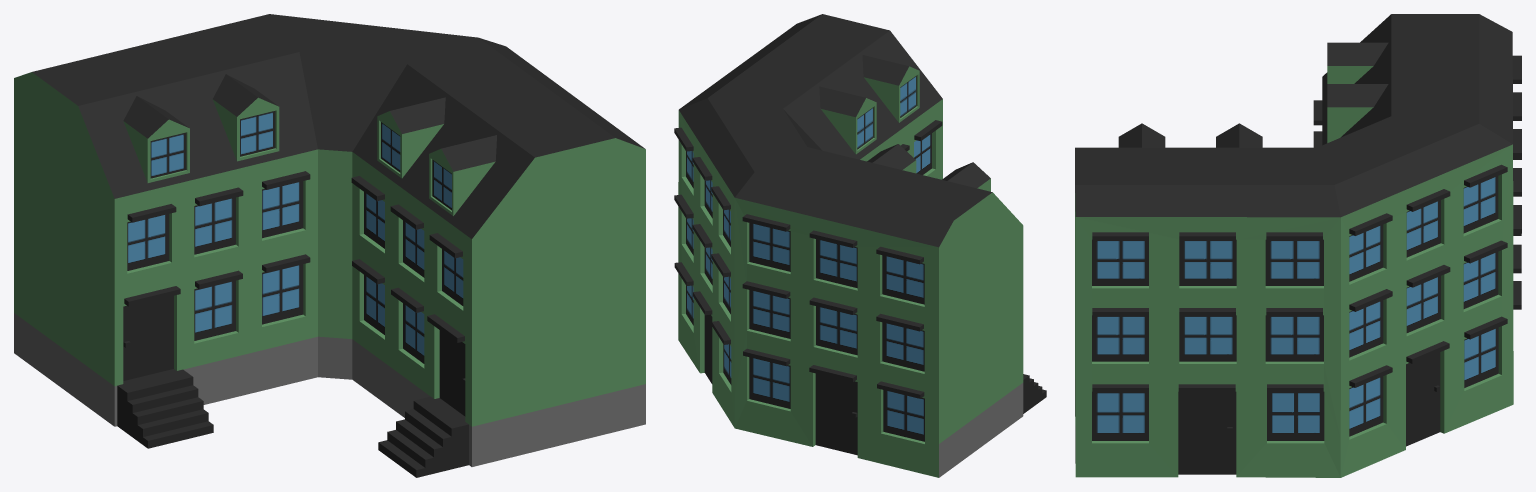
Rendered from AngleGreen.obj.
3 renders of one model, left to right at view 1: azimuth 30°, elevation 25°; view 2: azimuth 150°, elevation 25°; view 3: azimuth 270°, elevation 25°, orthographic. The views are drawn at different scales.
Parts seen in each view (by area): view 1: rogZielony.001; view 2: rogZielony.001; view 3: rogZielony.001.
Part boxes in pixels (left/top/right/bottom): rogZielony.001: left=14, top=14, right=645, bottom=477; rogZielony.001: left=674, top=14, right=1046, bottom=477; rogZielony.001: left=1075, top=14, right=1521, bottom=477.
Bounding box in the file's own units: 11.75 × 8.07 × 11.74.
